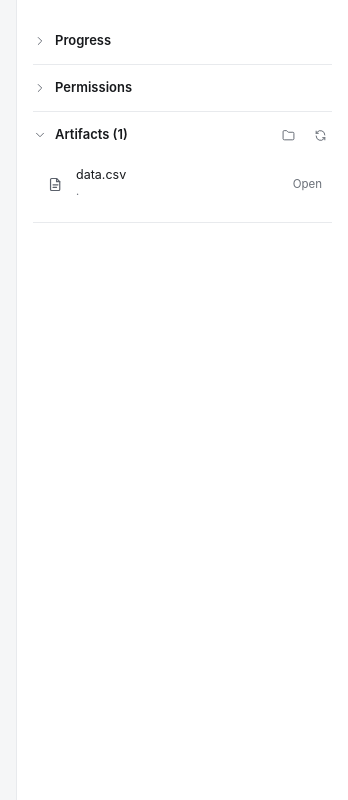
Test case: artifact preview › renders a CSV file as a table with its header row
The width and height of the screenshot is (348, 800).
Click the button "data.csv · Open". click: (101,174)
box: [33,157,332,211]
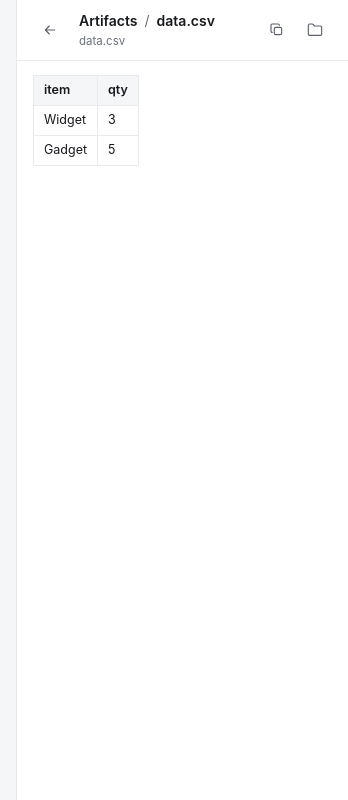
Now the text "Widget" is shown, box [34,106,98,135]
Now the column heading "qty" is shown, box [98,76,138,106]
Now the text "Gadget" is shown, box [34,135,98,165]
